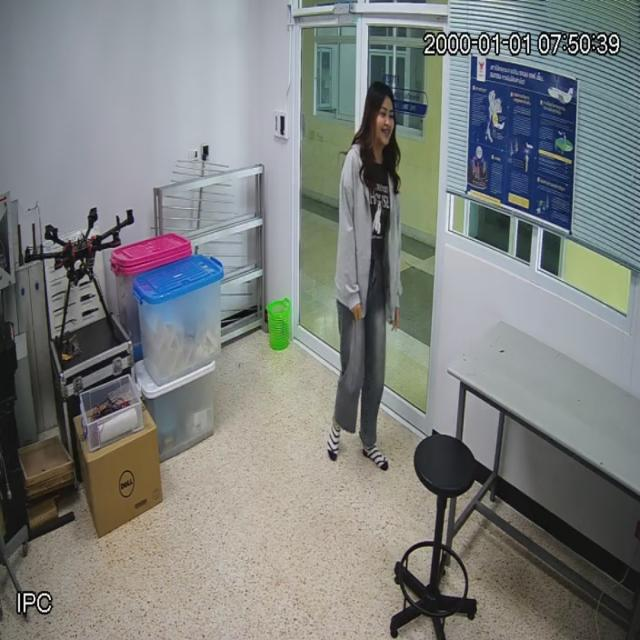normal: (324, 74, 403, 482)
